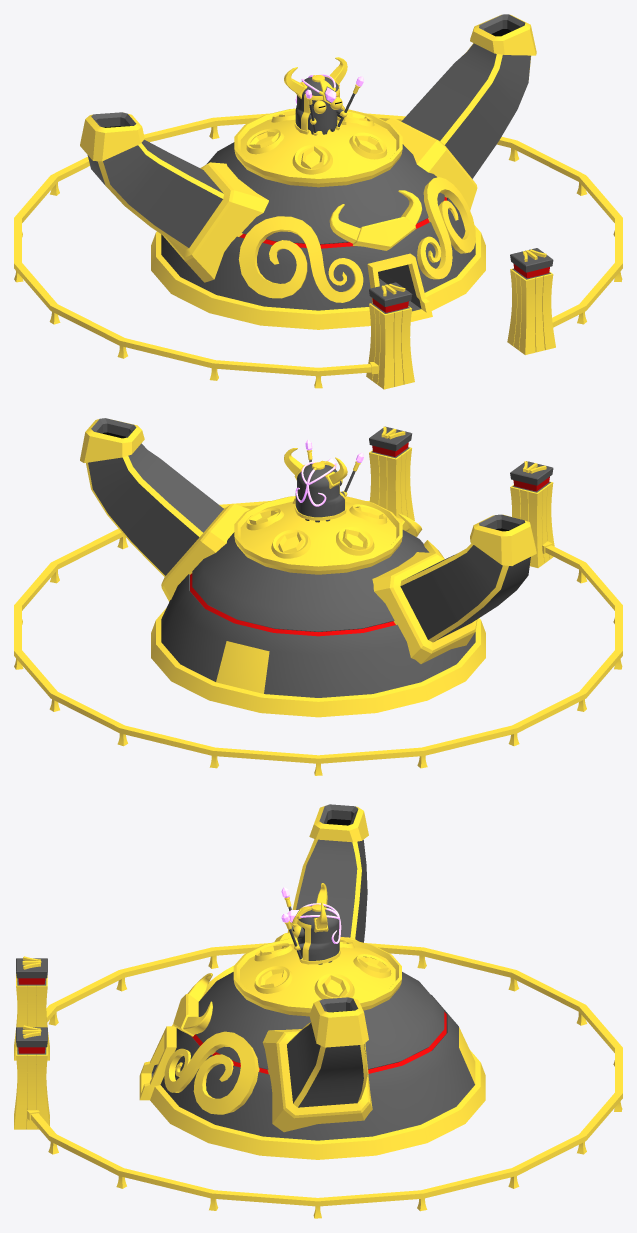
The model's file is mage_chamber_fomo.fbx.
The picture shows the model from 3 angles, top to bottom: view 1: azimuth 30°, elevation 25°; view 2: azimuth 150°, elevation 25°; view 3: azimuth 270°, elevation 25°; orthographic projection.
Visible parts, largest first — view 1: mage_chamber2, hornexhausts, emblems, fence, posts_FOMO, gotchi_aadept, deets, horns, body; view 2: mage_chamber2, hornexhausts, fence, posts_FOMO, emblems, gotchi_aadept, horns; view 3: mage_chamber2, hornexhausts, fence, emblems, posts_FOMO, gotchi_aadept.
Boxes of the visible parts, x1,y1,x2,y2 form: mage_chamber2: (151,119,485,329); hornexhausts: (80,14,536,282); emblems: (234,108,475,302); fence: (14,113,622,388); posts_FOMO: (366,248,555,389); gotchi_aadept: (294,75,346,134); deets: (307,84,360,135); horns: (284,57,347,98); body: (308,96,337,134); mage_chamber2: (151,501,485,717); hornexhausts: (80,418,536,663); fence: (14,501,622,775); posts_FOMO: (369,426,554,567); emblems: (234,496,443,570); gotchi_aadept: (294,460,346,520); horns: (284,448,347,488); mage_chamber2: (139,943,485,1159); hornexhausts: (262,804,372,1132); fence: (27,943,622,1218); emblems: (164,938,401,1114); posts_FOMO: (14,956,49,1129); gotchi_aadept: (293,904,340,964).
Bounding box in the file's own units: 22.76 × 7.89 × 22.37.
